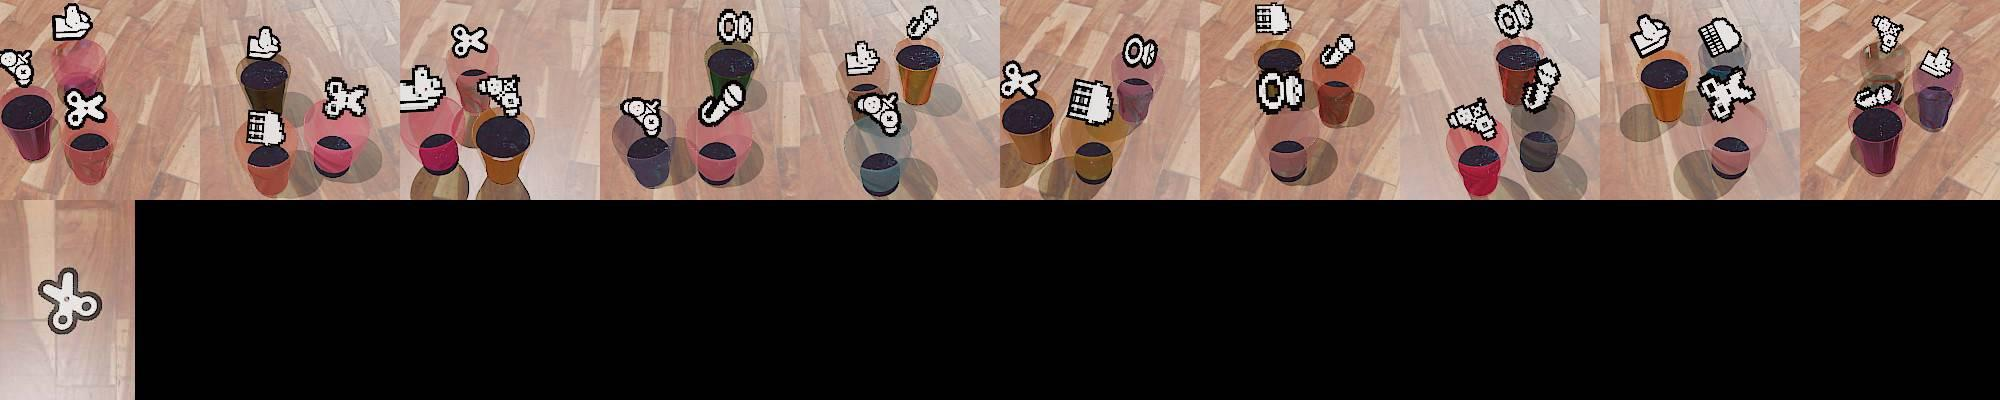icon: (37, 267, 104, 337), (1696, 67, 1757, 122), (1065, 77, 1117, 127), (398, 62, 448, 114), (1520, 56, 1562, 114), (853, 89, 903, 136), (1256, 68, 1305, 115), (1446, 97, 1497, 142), (699, 79, 745, 127), (477, 72, 523, 117), (1698, 17, 1743, 63), (322, 75, 369, 119), (1629, 13, 1672, 58), (63, 87, 108, 128), (620, 97, 663, 138), (50, 2, 94, 42), (1000, 60, 1041, 99), (1493, 0, 1535, 38), (246, 108, 286, 147), (0, 48, 36, 89), (843, 39, 880, 78), (715, 8, 754, 45), (449, 23, 489, 59), (1121, 33, 1158, 70), (1254, 2, 1293, 37), (245, 25, 283, 60), (1871, 15, 1904, 55), (1320, 33, 1356, 68), (1854, 81, 1898, 109), (907, 4, 939, 40), (1918, 46, 1953, 77)
